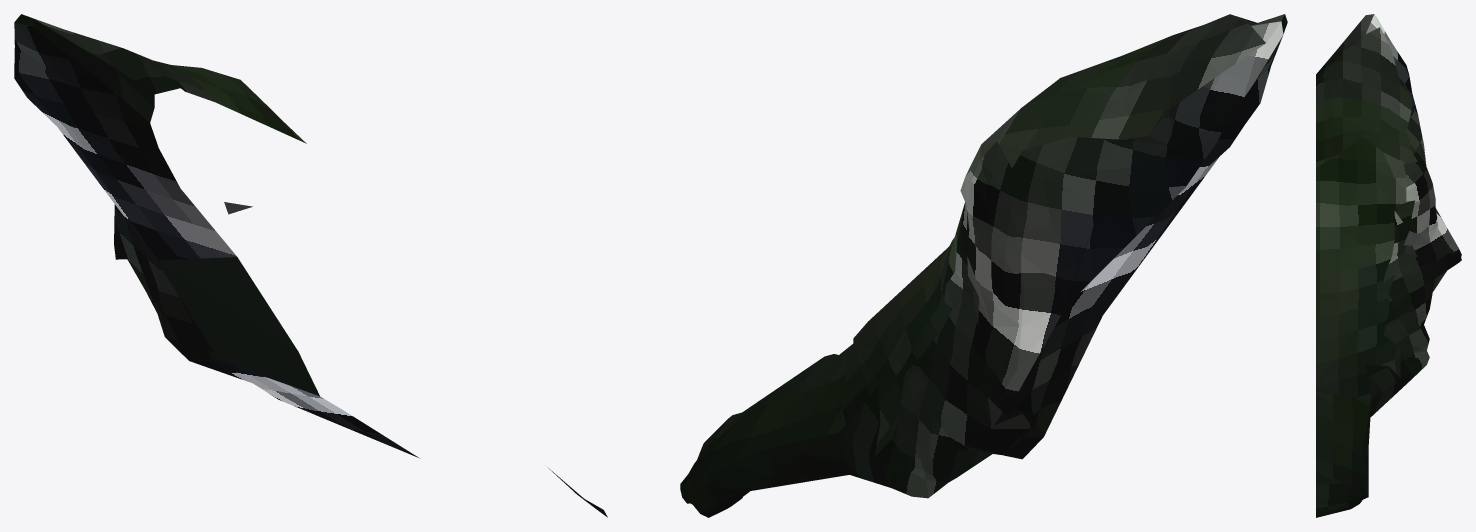
3 renders of one model, left to right at view 1: azimuth 30°, elevation 25°; view 2: azimuth 150°, elevation 25°; view 3: azimuth 270°, elevation 25°, orthographic. The views are drawn at different scales.
Bounding box in the file's own units: 0.2575 × 0.2517 × 0.0961.
Materials: 1 (1 with a texture image).
